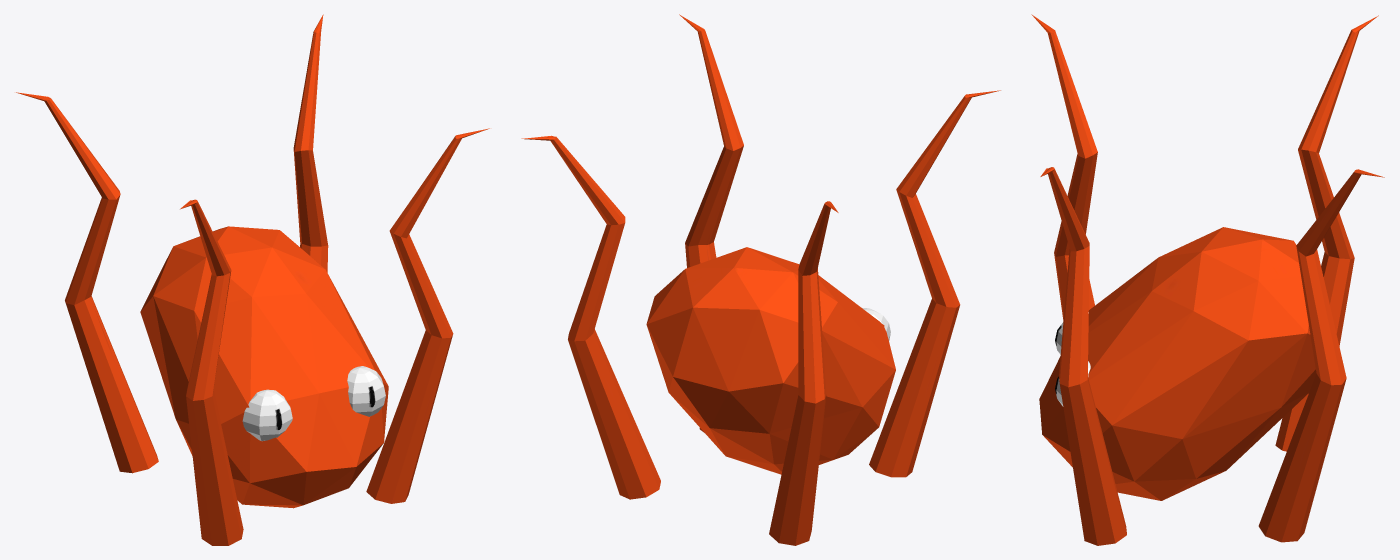
Rendered from Kraken.fbx.
3 views of the same model, side by side, from view 1: azimuth 30°, elevation 25°; view 2: azimuth 150°, elevation 25°; view 3: azimuth 270°, elevation 25° (orthographic). The views are drawn at different scales.
Visible parts, largest first — view 1: Head, tentacle.002, tentacle.001, tentacle, tentacle.003, EyeR, EyeL; view 2: Head, tentacle, tentacle.003, tentacle.002, tentacle.001; view 3: Head, tentacle.003, tentacle.001, tentacle.002, tentacle.
Boxes of the visible parts, x1,y1,x2,y2 form: Head: (140, 226, 388, 508); tentacle.002: (16, 92, 158, 473); tentacle.001: (366, 128, 489, 503); tentacle: (180, 199, 243, 545); tentacle.003: (293, 14, 328, 272); EyeR: (242, 389, 292, 441); EyeL: (347, 366, 385, 416); Head: (646, 247, 895, 474); tentacle: (869, 90, 1000, 477); tentacle.003: (521, 135, 660, 499); tentacle.002: (769, 201, 838, 545); tentacle.001: (679, 14, 743, 432); Head: (1039, 227, 1316, 500); tentacle.003: (1258, 169, 1384, 542); tentacle.001: (1040, 167, 1126, 545); tentacle.002: (1275, 15, 1378, 451); tentacle: (1031, 14, 1097, 320).
Bounding box in the file's own units: 336 × 377 × 305.
Materials: 1 (1 with a texture image).
